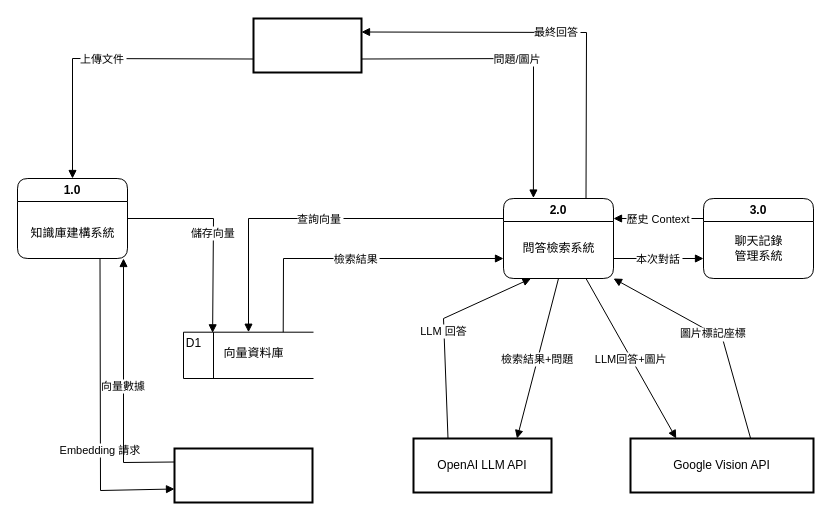
Some shapes in this 832 by 520 pixel diagram are drawn without their labels. The shapes that lost their labels are listed below. From the top down, each one's centre as x and y in pixels, then its label:
At point 307,45: "使用者".
At point 243,475: "OpenAI Embedding API".
